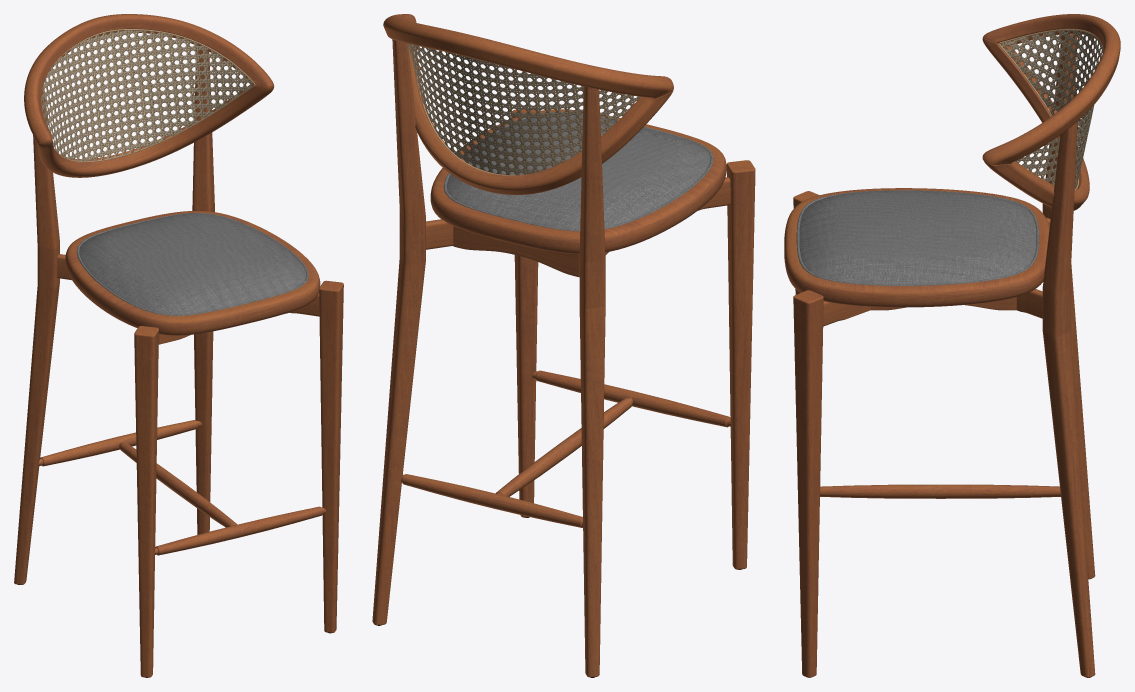
Rendered from maracaja-banqueta.glb.
3 renders of one model, left to right at view 1: azimuth 30°, elevation 25°; view 2: azimuth 150°, elevation 25°; view 3: azimuth 270°, elevation 25°, orthographic. The views are drawn at different scales.
Parts seen in each view (by area): view 1: Geom3D (×4); view 2: Geom3D (×3); view 3: Geom3D (×3).
Boxes of the visible parts, x1,y1,x2,y2 form: Geom3D (×4): (14,14,343,677); Geom3D (×3): (372,14,755,677); Geom3D (×3): (784,14,1120,677).
Size of the model in its own units: 0.5035 by 1.09 by 0.5666.
Materials: 5 (3 with a texture image).
